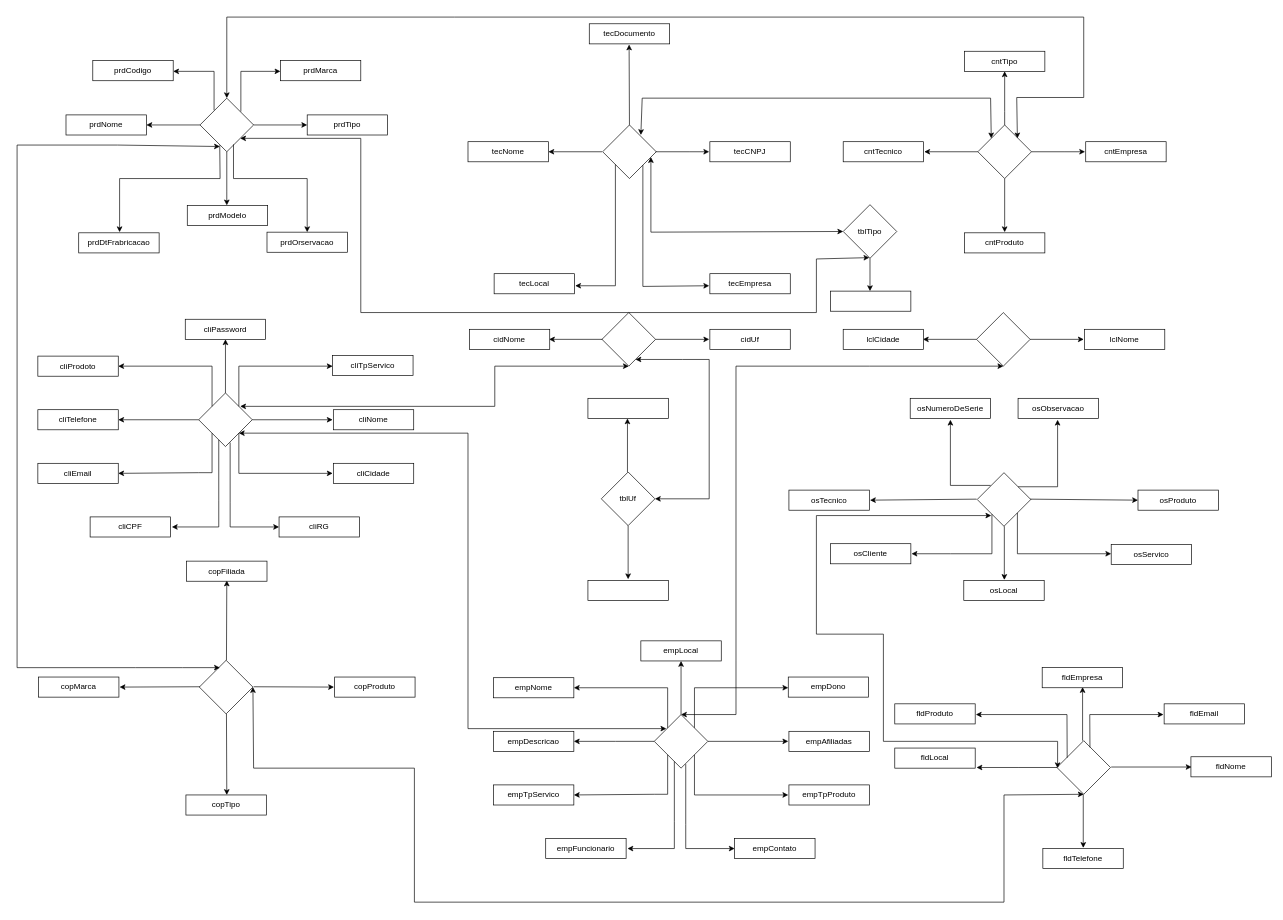
Image size: 1283x920. Some labels were removed from this diagram. Here are the shapes that lost their labels. From the top down, the centre of each, then its label:
At point (226, 124): "tblProduto".
At point (629, 151): "Tecnico".
At point (1004, 151): "connectTec".
At point (870, 300): "tpNome".
At point (628, 339): "tblCidade".
At point (1003, 339): "tblLocal".
At point (225, 419): "tblCliente".
At point (627, 408): "ufNome".
At point (1004, 499): "tblOrdemServ".
At point (627, 590): "ufSigla".
At point (226, 687): "connectProduto".
At point (681, 741): "tblEmpresa".
At point (1083, 767): "tblFiliada".
